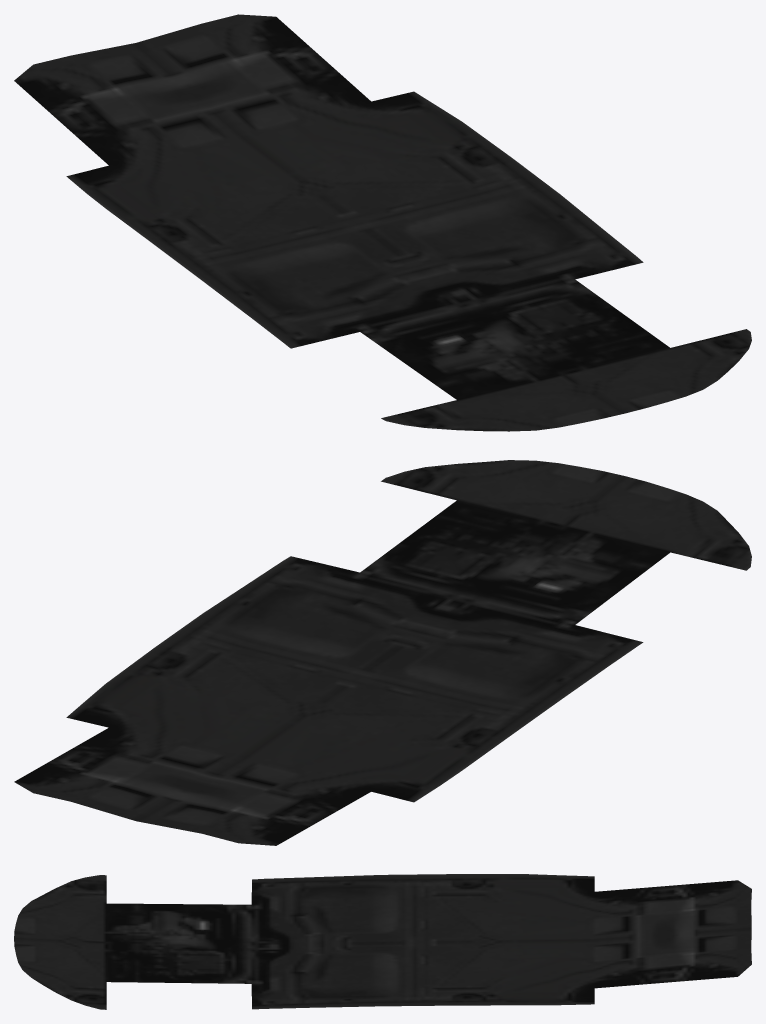
File: 1Alt.fbx
The picture shows the model from 3 angles, top to bottom: view 1: azimuth 30°, elevation 25°; view 2: azimuth 150°, elevation 25°; view 3: azimuth 270°, elevation 25°; orthographic projection. The views are drawn at different scales.
Parts seen in each view (by area): view 1: Object001; view 2: Object001; view 3: Object001.
Part boxes in pixels (box(x1,y1,x2,y2)): Object001: box(14, 14, 751, 431); Object001: box(14, 460, 751, 845); Object001: box(14, 874, 751, 1009).
Bounding box in the file's own units: 1688 × 105 × 3908.
